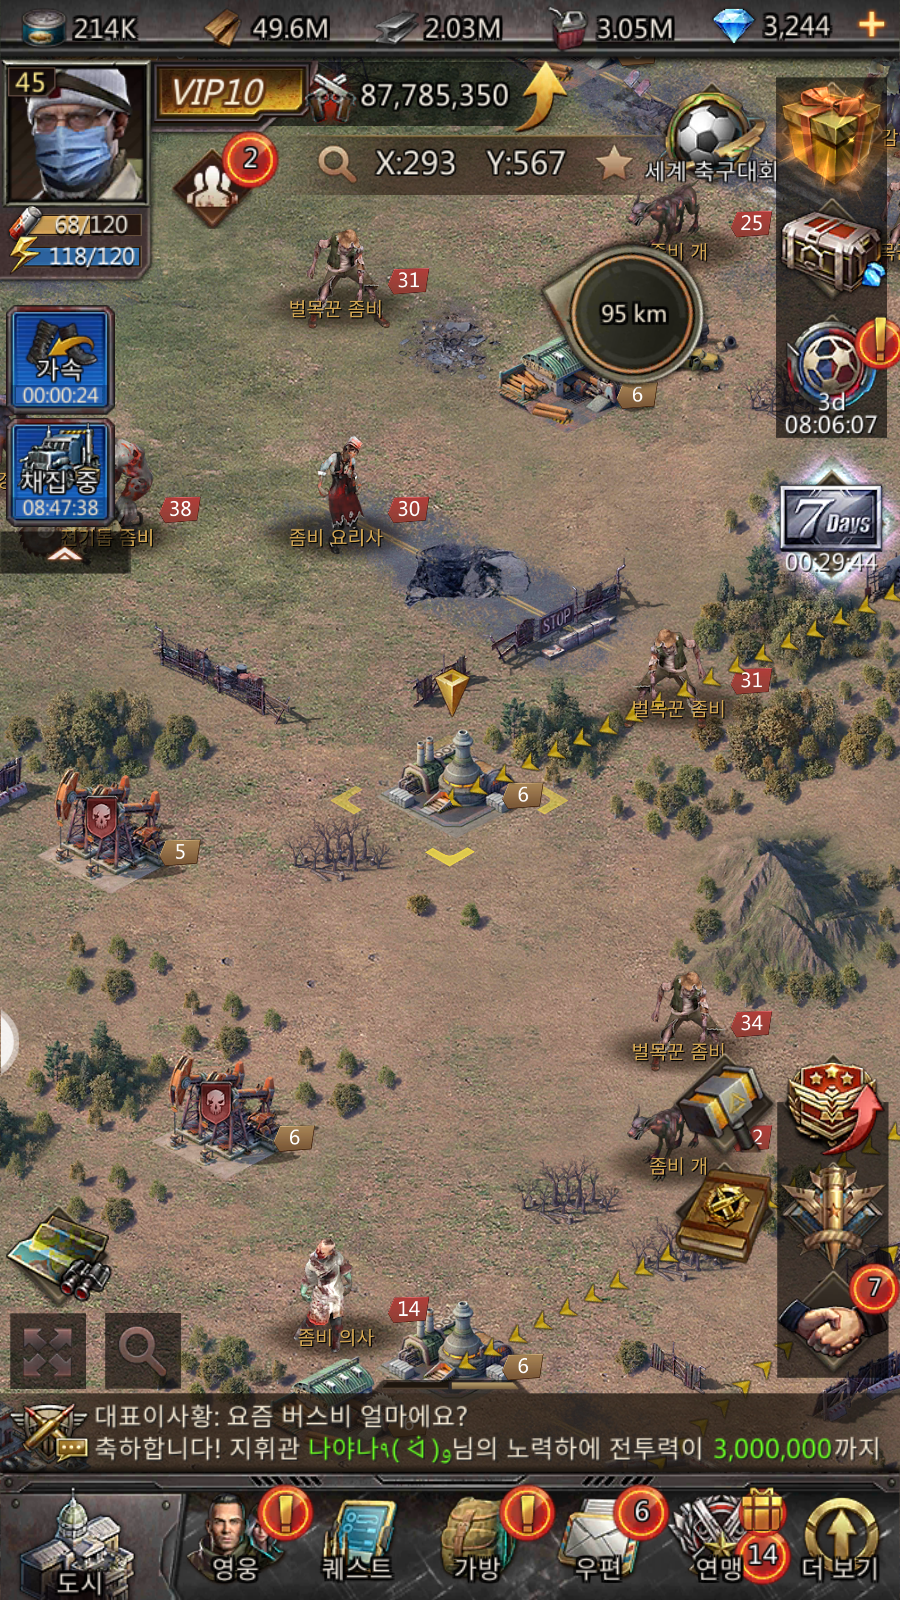city: (2, 1473, 175, 1600)
occupied_steel: (322, 658, 605, 880)
open_panel: (91, 1296, 211, 1413)
troops_cnt_2: (165, 135, 287, 238)
